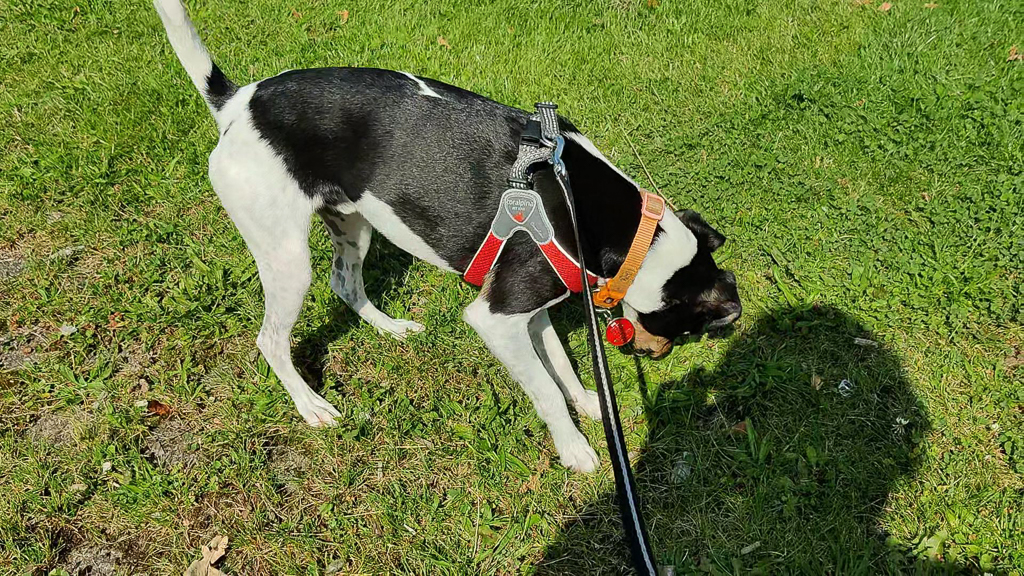Dog: (134, 0, 772, 496)
